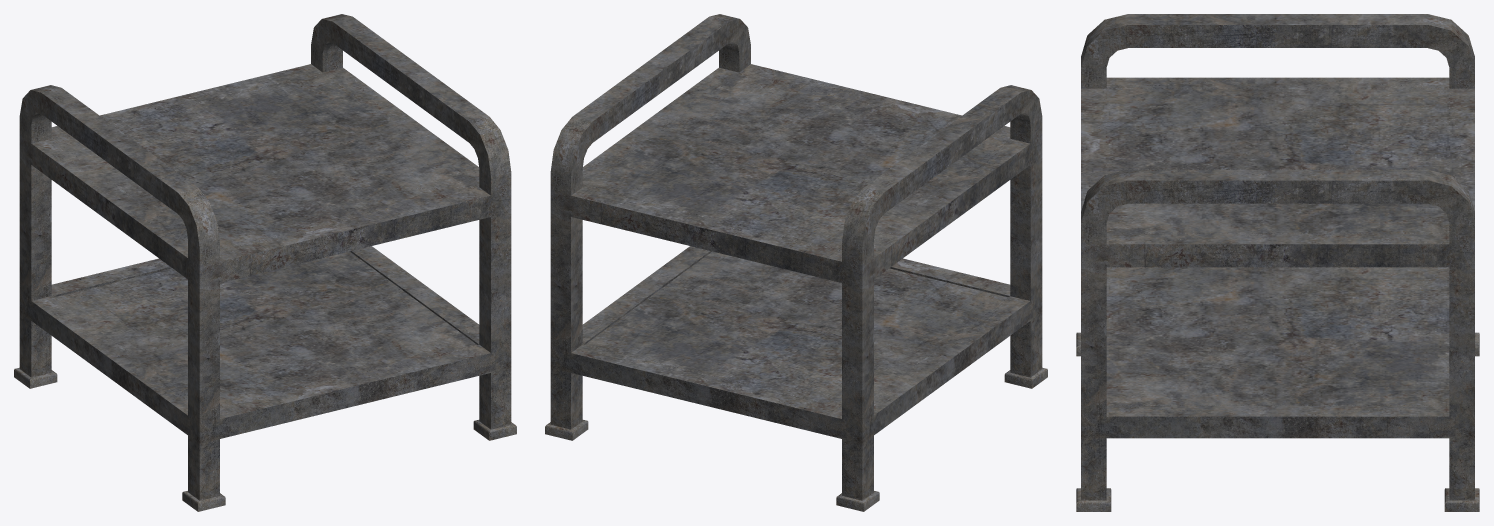
Rendered from WhiteMetalShelf.FBX.
3 renders of one model, left to right at view 1: azimuth 30°, elevation 25°; view 2: azimuth 150°, elevation 25°; view 3: azimuth 270°, elevation 25°, orthographic. The views are drawn at different scales.
Parts seen in each view (by area): view 1: WhiteMetalShelf; view 2: WhiteMetalShelf; view 3: WhiteMetalShelf.
Boxes of the visible parts, box(x1,y1,x2,y2) form: WhiteMetalShelf: box(14, 14, 516, 511); WhiteMetalShelf: box(545, 14, 1047, 511); WhiteMetalShelf: box(1076, 14, 1479, 511).
Bounding box in the file's own units: 371 × 334 × 371.
